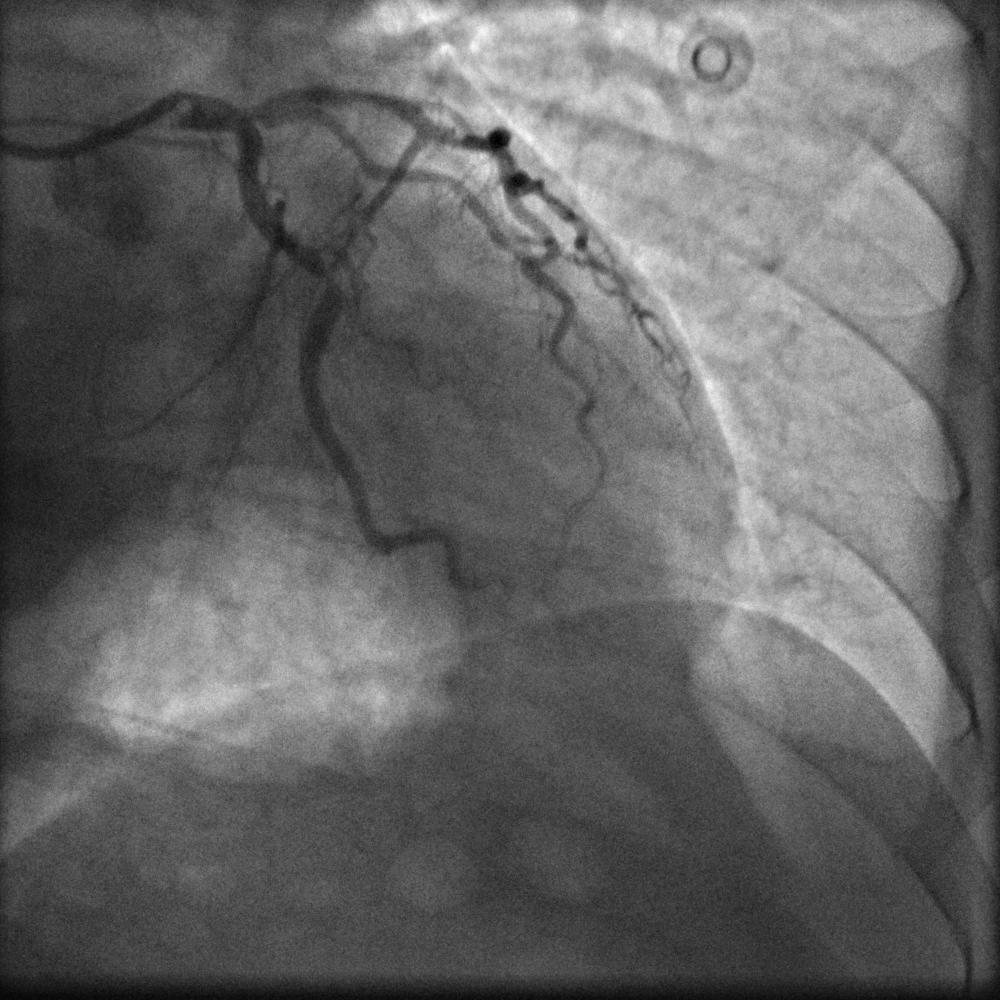Stenosis: (316, 258, 345, 292)
